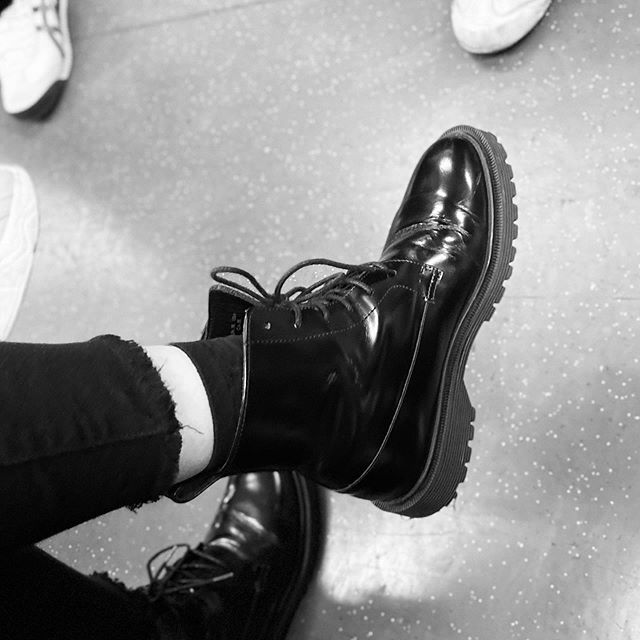shoe: (210, 103, 548, 536)
